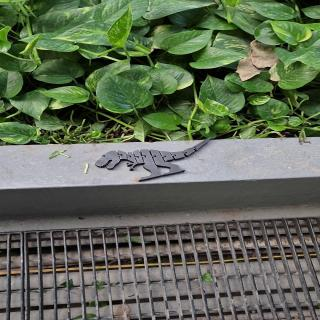dino: (94, 136, 212, 182)
